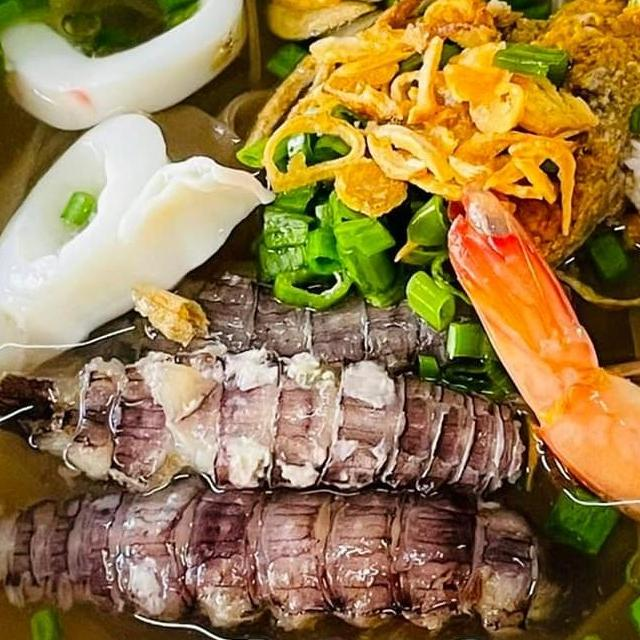muc: (0, 99, 293, 431), (0, 0, 254, 140)
tom: (427, 117, 640, 549)
tom tit: (0, 463, 627, 640), (0, 348, 596, 509), (89, 265, 515, 388)
